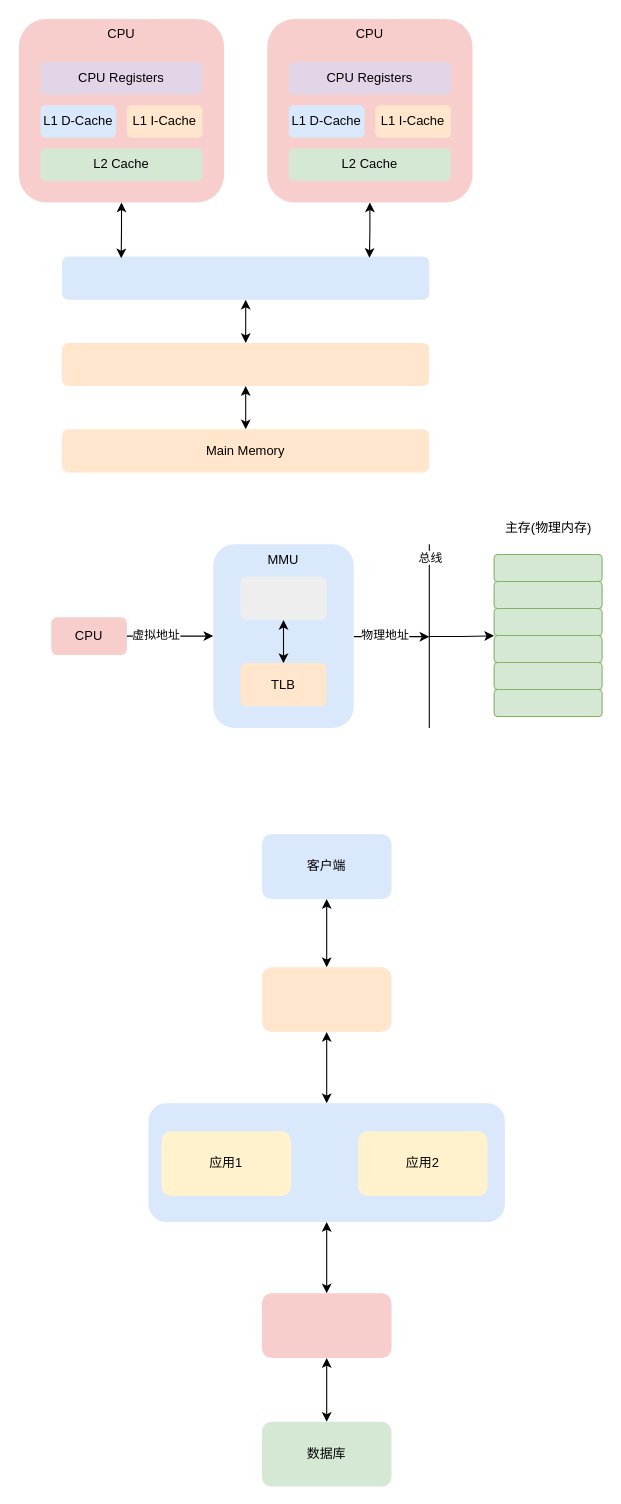
The diagram is 621 pixels wide and 1504 high, and some of its shapes have lost their labels. The shapes that lost their labels are listed below. From the top down, each one's centre as x and y in pixels, then its label:
point 245,277: L3 Cache
point 245,364: Bus总线
point 283,597: 地址翻译
point 326,999: 负载均衡器
point 326,1325: 缓存
